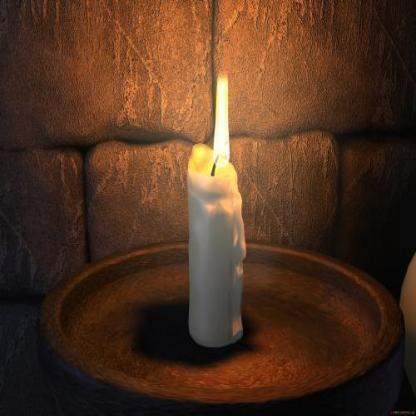Fire: (205, 71, 241, 178)
